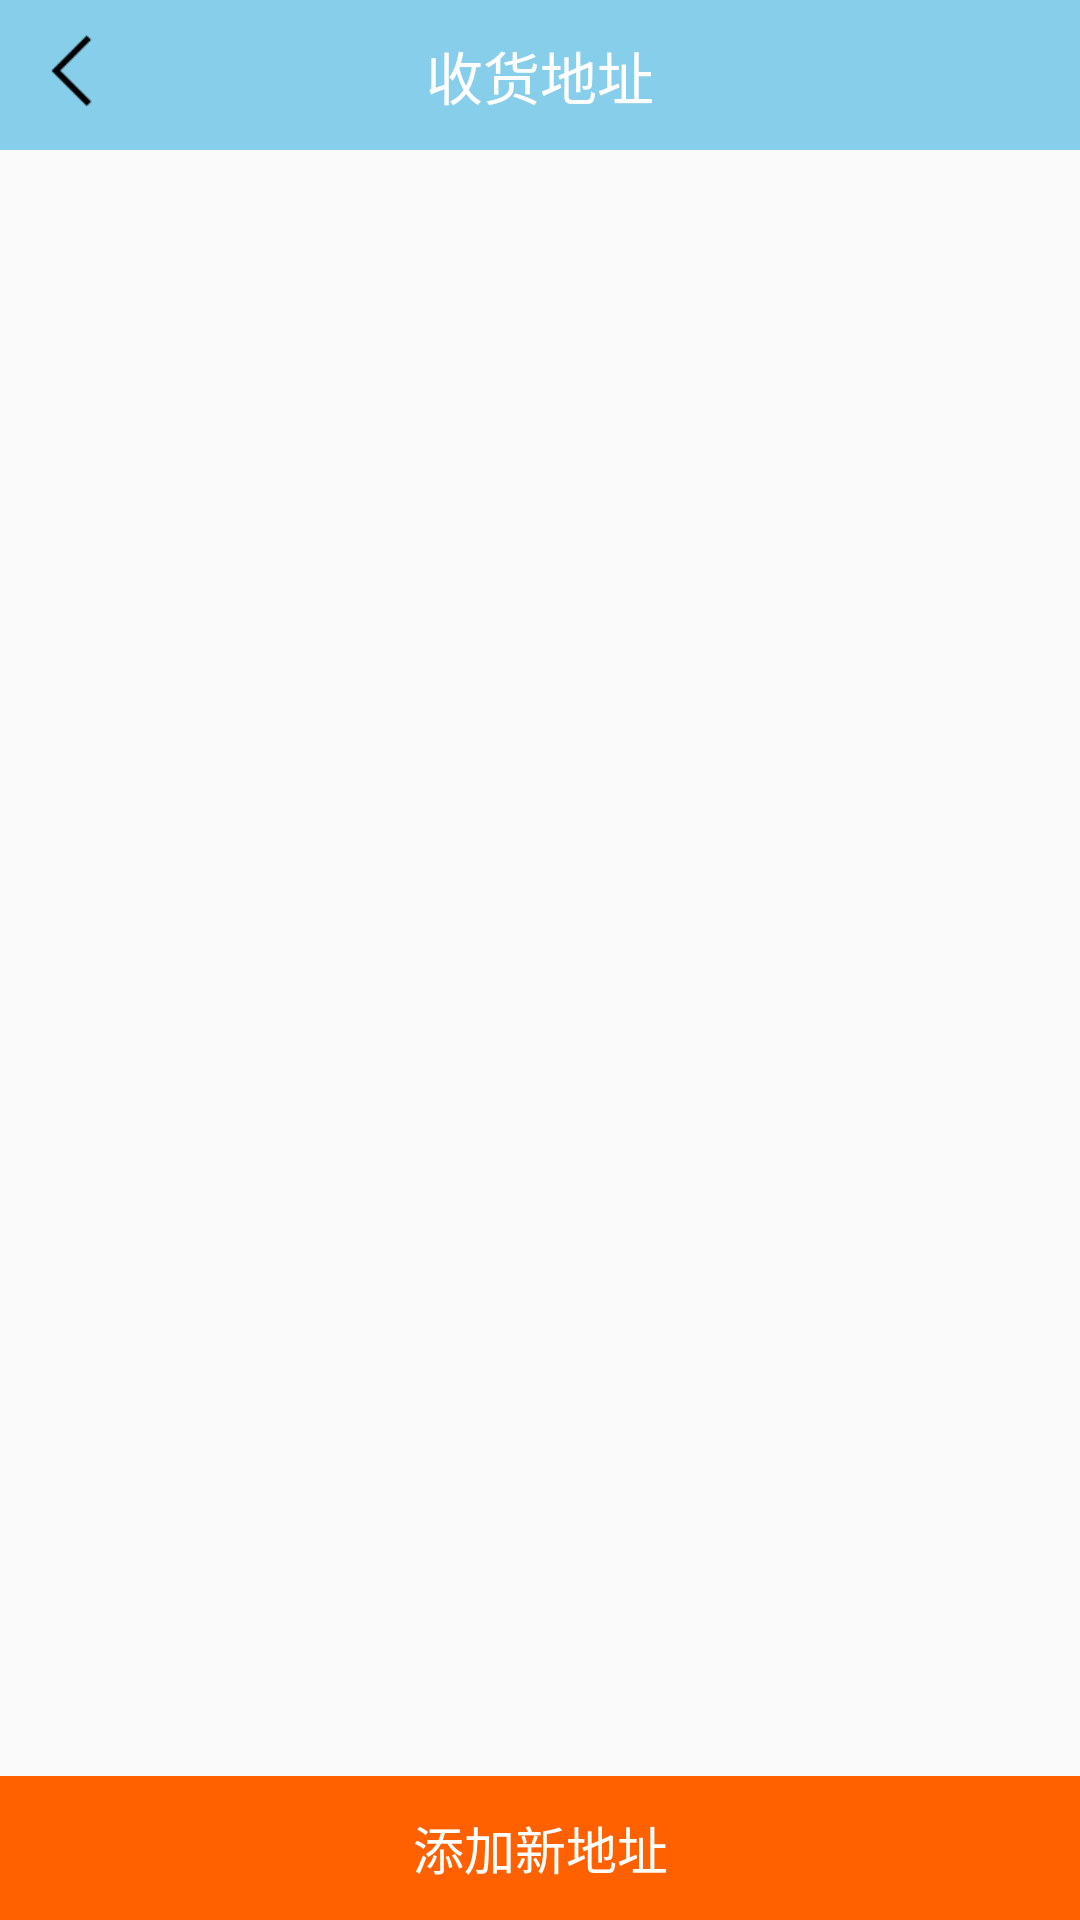

Icons on this 1080 × 1920 Android screen, each with its box as box(x1, y1, x2, y2):
back: box(52, 35, 92, 106)
